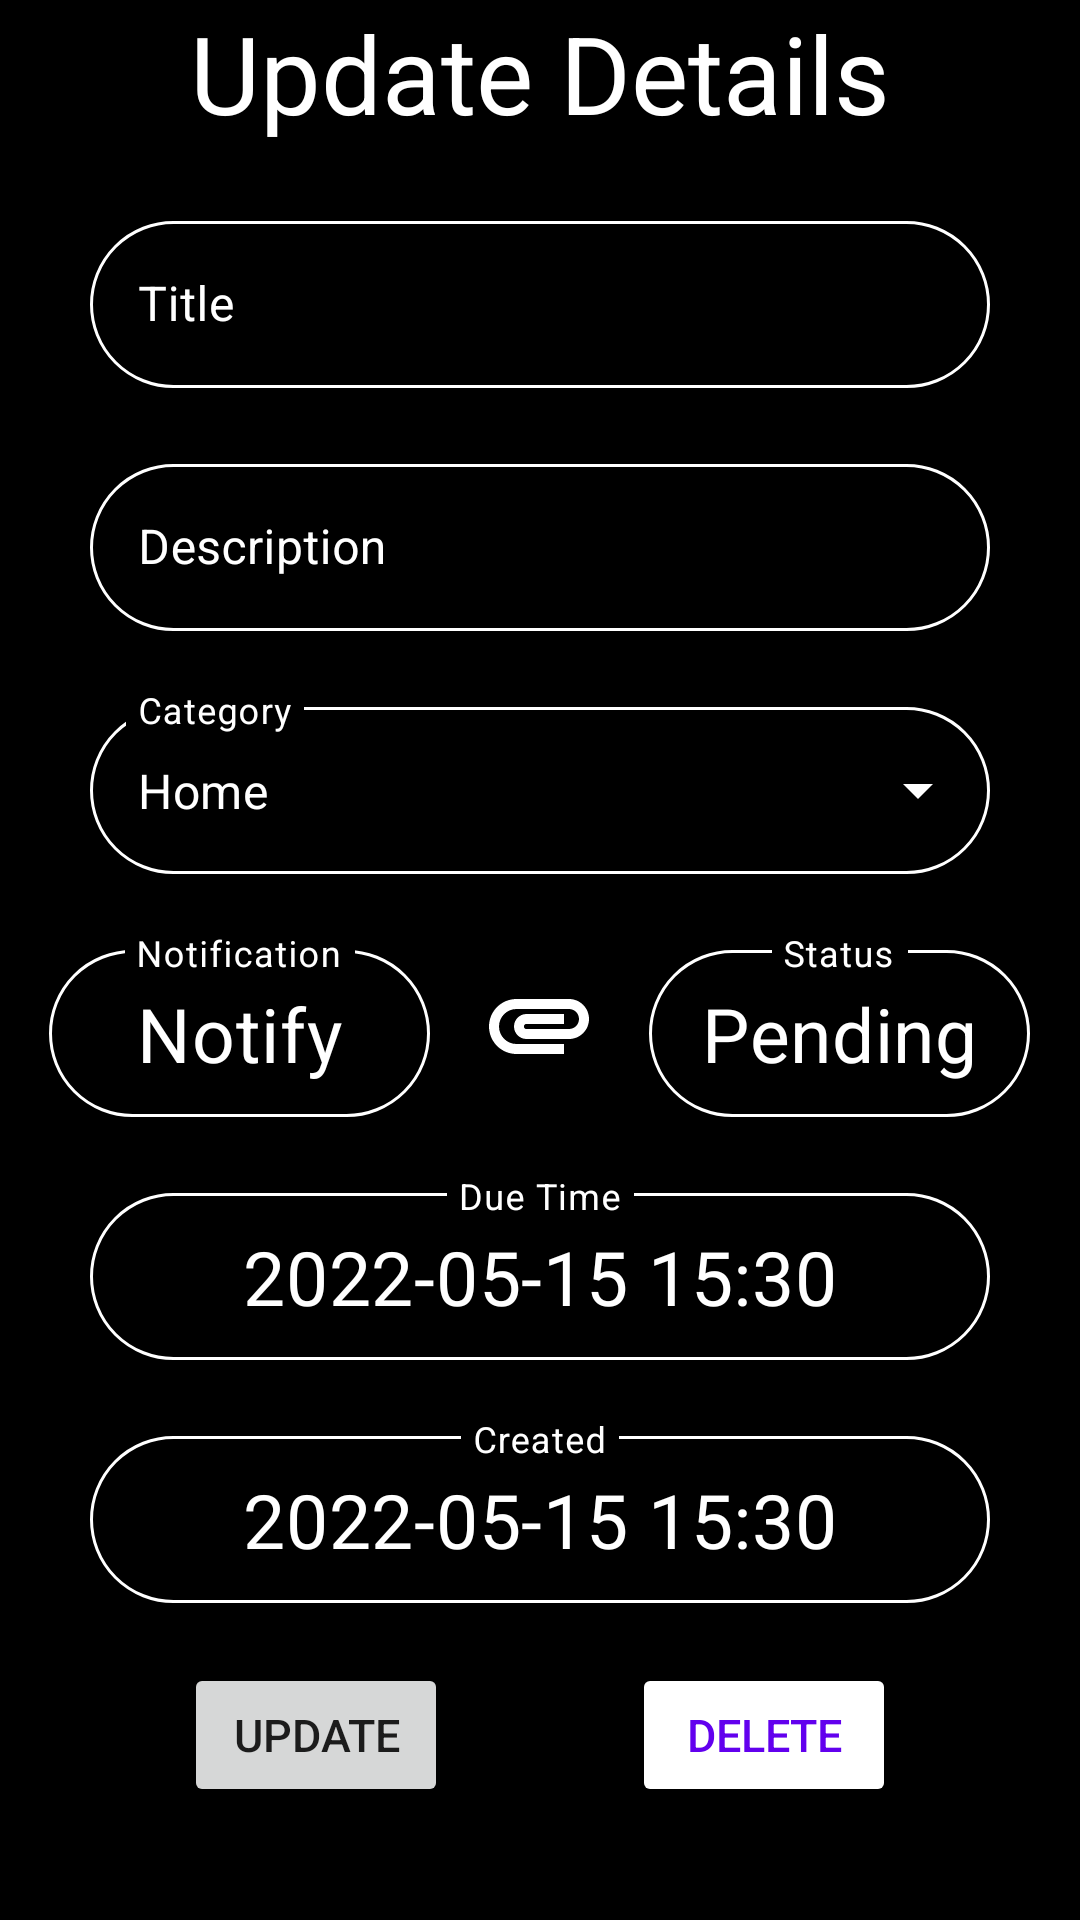

Icon bounding boxes for this 1080px×1920px phone screenshot, format (x1, y1, x2, y2):
attachment: (489, 999, 589, 1054)
